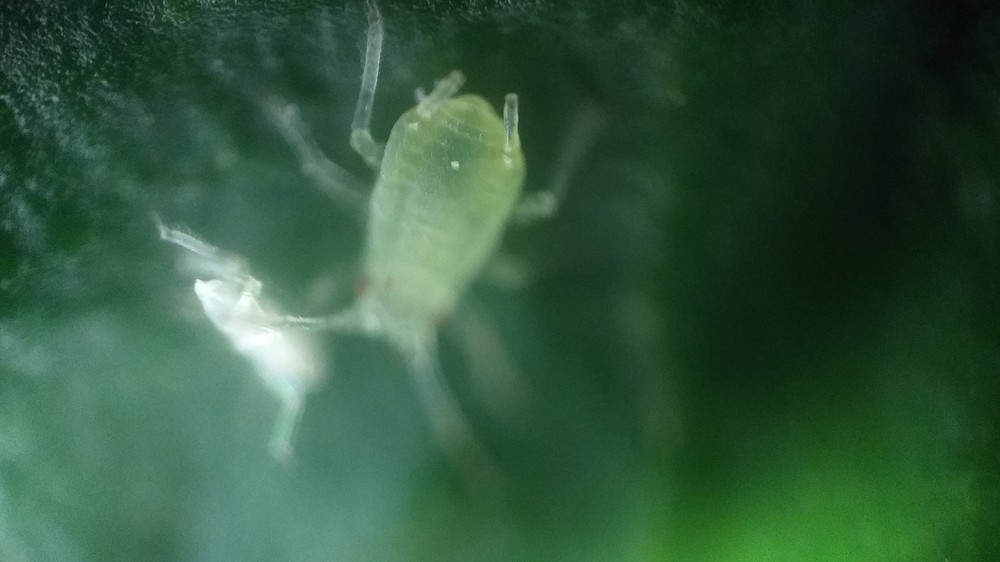Pulgon: (252, 9, 589, 480)
